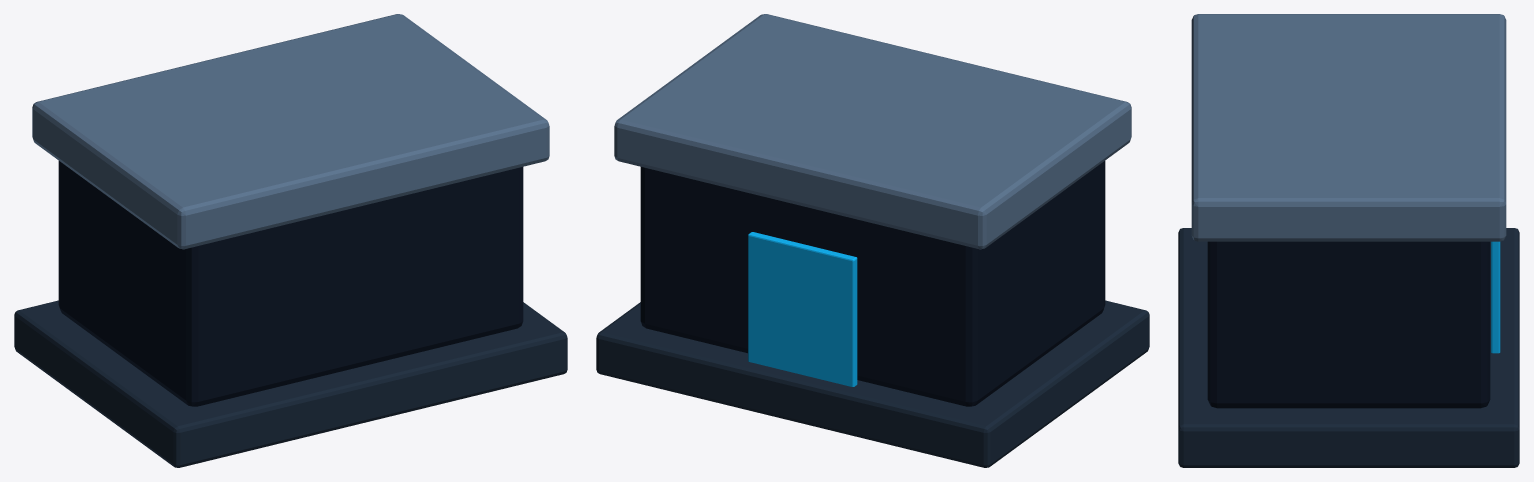
The model's file is assembly_barracks_module_lod1.obj.
3 renders of one model, left to right at view 1: azimuth 30°, elevation 25°; view 2: azimuth 150°, elevation 25°; view 3: azimuth 270°, elevation 25°, orthographic. The views are drawn at different scales.
Visible parts, largest first — view 1: rts_barracks_lod1_body_M_navy, rts_barracks_lod1_roof_M_steel, rts_barracks_lod1_base_M_gunmetal; view 2: rts_barracks_lod1_roof_M_steel, rts_barracks_lod1_body_M_navy, rts_barracks_lod1_base_M_gunmetal, rts_barracks_lod1_door_M_cyan; view 3: rts_barracks_lod1_roof_M_steel, rts_barracks_lod1_body_M_navy, rts_barracks_lod1_base_M_gunmetal, rts_barracks_lod1_door_M_cyan.
Boxes of the visible parts, box(x1,y1,x2,y2) form: rts_barracks_lod1_body_M_navy: box(58, 161, 523, 406); rts_barracks_lod1_roof_M_steel: box(32, 14, 549, 249); rts_barracks_lod1_base_M_gunmetal: box(14, 300, 567, 467); rts_barracks_lod1_roof_M_steel: box(614, 14, 1131, 249); rts_barracks_lod1_body_M_navy: box(640, 161, 1105, 406); rts_barracks_lod1_base_M_gunmetal: box(596, 300, 1149, 467); rts_barracks_lod1_door_M_cyan: box(748, 232, 857, 386); rts_barracks_lod1_roof_M_steel: box(1191, 14, 1506, 241); rts_barracks_lod1_body_M_navy: box(1207, 241, 1490, 408); rts_barracks_lod1_base_M_gunmetal: box(1178, 228, 1519, 467); rts_barracks_lod1_door_M_cyan: box(1491, 241, 1500, 353).
Bounding box in the file's own units: 1.78 × 1.09 × 1.28.
